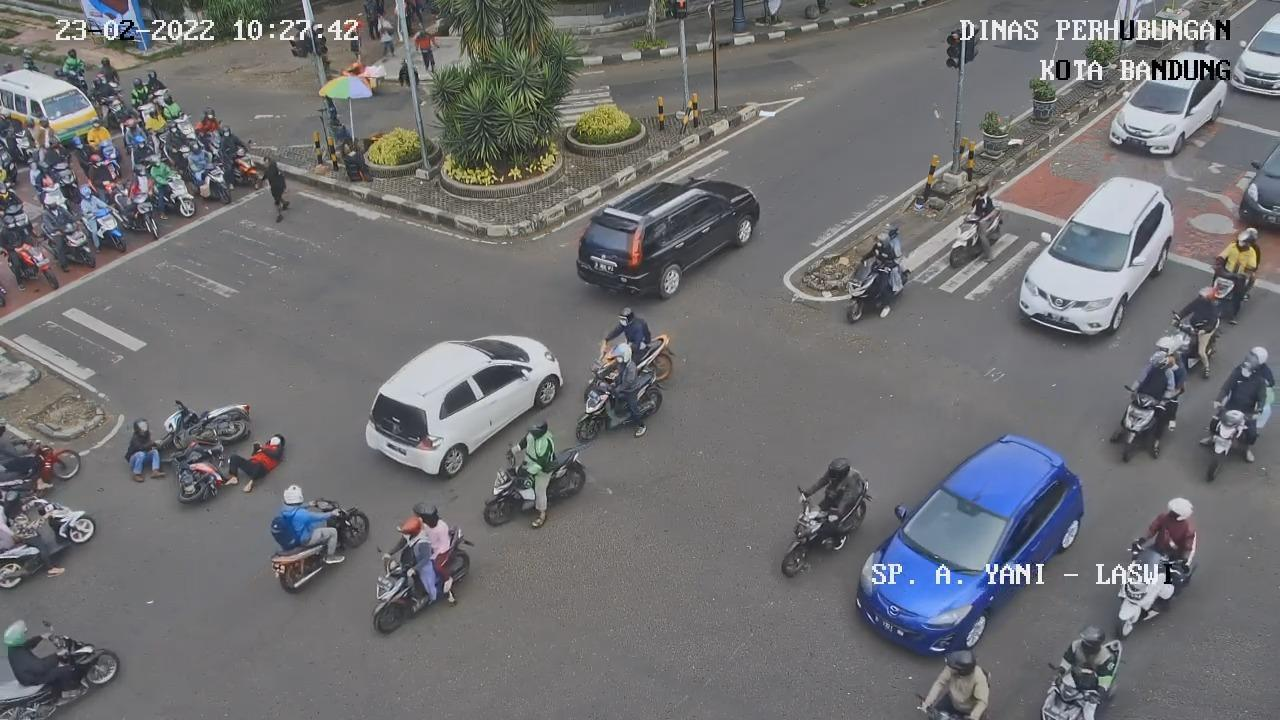accident: (218, 425, 295, 499), (116, 413, 167, 486)
